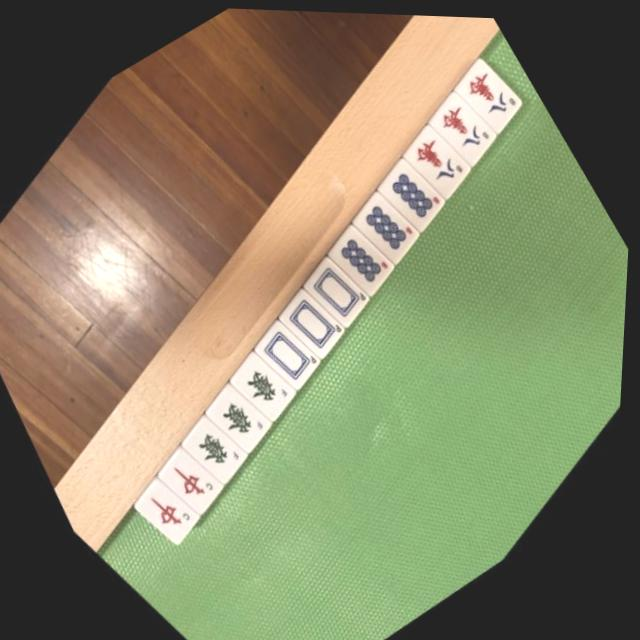hdg: (216, 341, 309, 437), (192, 373, 285, 468), (168, 403, 260, 499)
hdr: (145, 434, 236, 528), (123, 466, 211, 557)
hdw: (286, 246, 382, 344), (263, 279, 358, 376), (240, 309, 334, 407)
sc8: (386, 115, 483, 216), (437, 51, 533, 151), (415, 86, 506, 181)
sd8: (311, 215, 406, 313), (336, 183, 431, 281), (363, 151, 457, 247)
